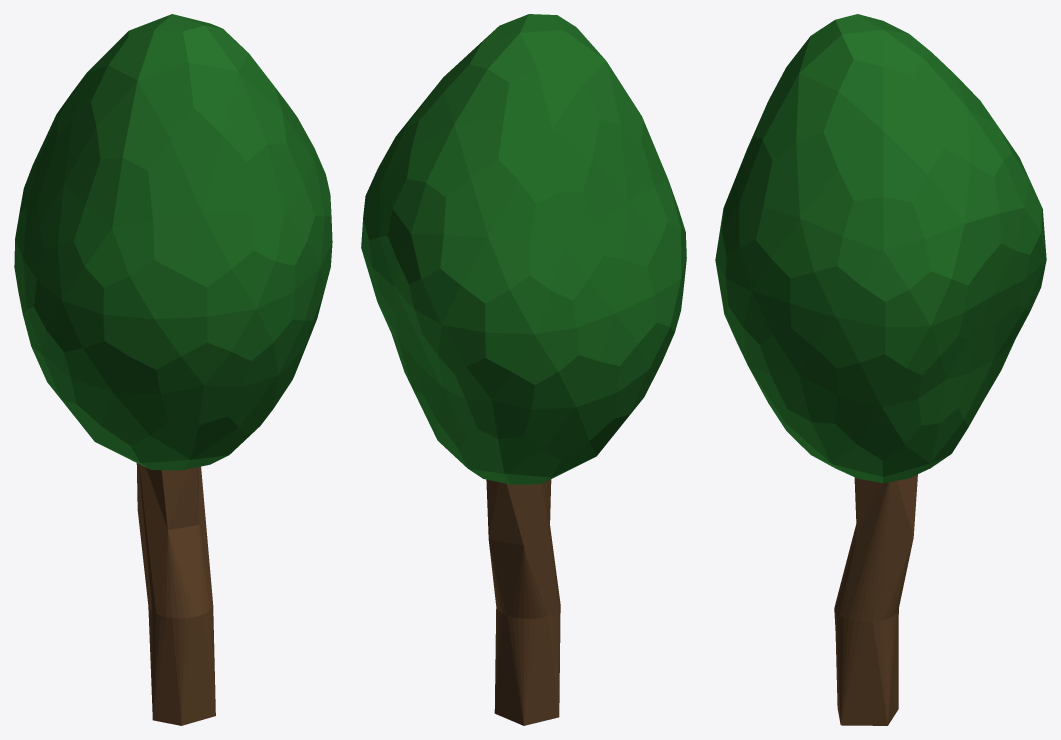
Rendered from tree4.fbx.
3 renders of one model, left to right at view 1: azimuth 30°, elevation 25°; view 2: azimuth 150°, elevation 25°; view 3: azimuth 270°, elevation 25°, orthographic.
Parts seen in each view (by area): view 1: Icosphere_LOD0; view 2: Icosphere_LOD0; view 3: Icosphere_LOD0.
Boxes of the visible parts, x1=… form: Icosphere_LOD0: x1=14, y1=14, x2=332, y2=725; Icosphere_LOD0: x1=361, y1=14, x2=686, y2=725; Icosphere_LOD0: x1=715, y1=14, x2=1046, y2=725.
Size of what is drawn, in the model's own units: 711 by 1669 by 728.
